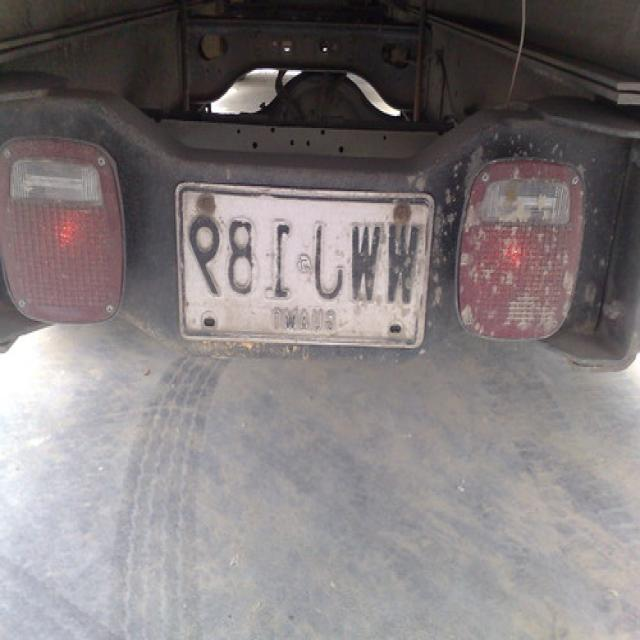placas: (188, 211, 424, 308)
